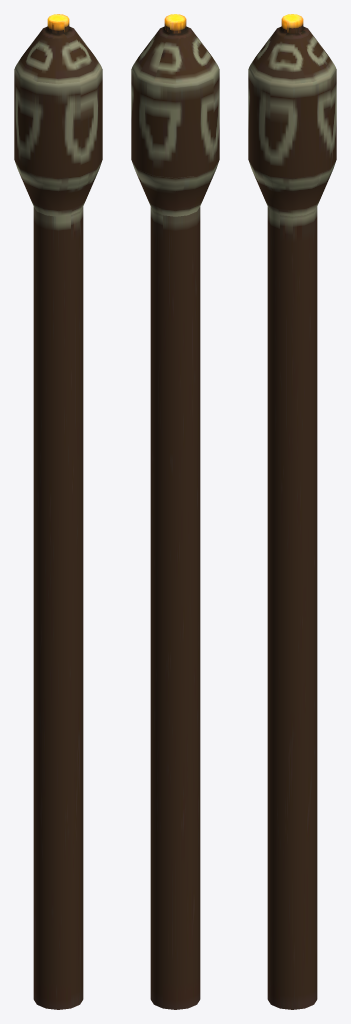
File: torch01.fbx
The picture shows the model from 3 angles, left to right: view 1: azimuth 30°, elevation 25°; view 2: azimuth 150°, elevation 25°; view 3: azimuth 330°, elevation 25°; orthographic projection.
Parts seen in each view (by area): view 1: torch01; view 2: torch01; view 3: torch01.
Part boxes in pixels (<box>): torch01: <box>14,14,102,1009</box>; torch01: <box>131,14,219,1009</box>; torch01: <box>248,14,336,1009</box>.
Size of the model in its own units: 0.2135 by 2.62 by 0.2135.
Materials: 1 (1 with a texture image).
